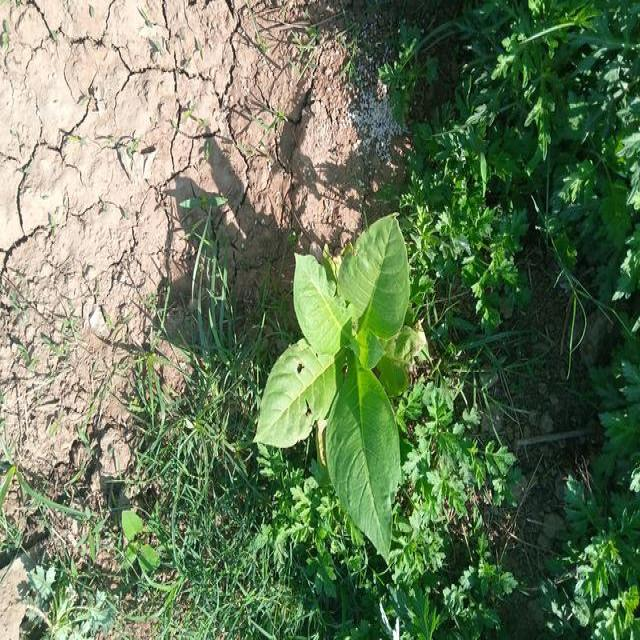crop: (262, 223, 414, 553)
